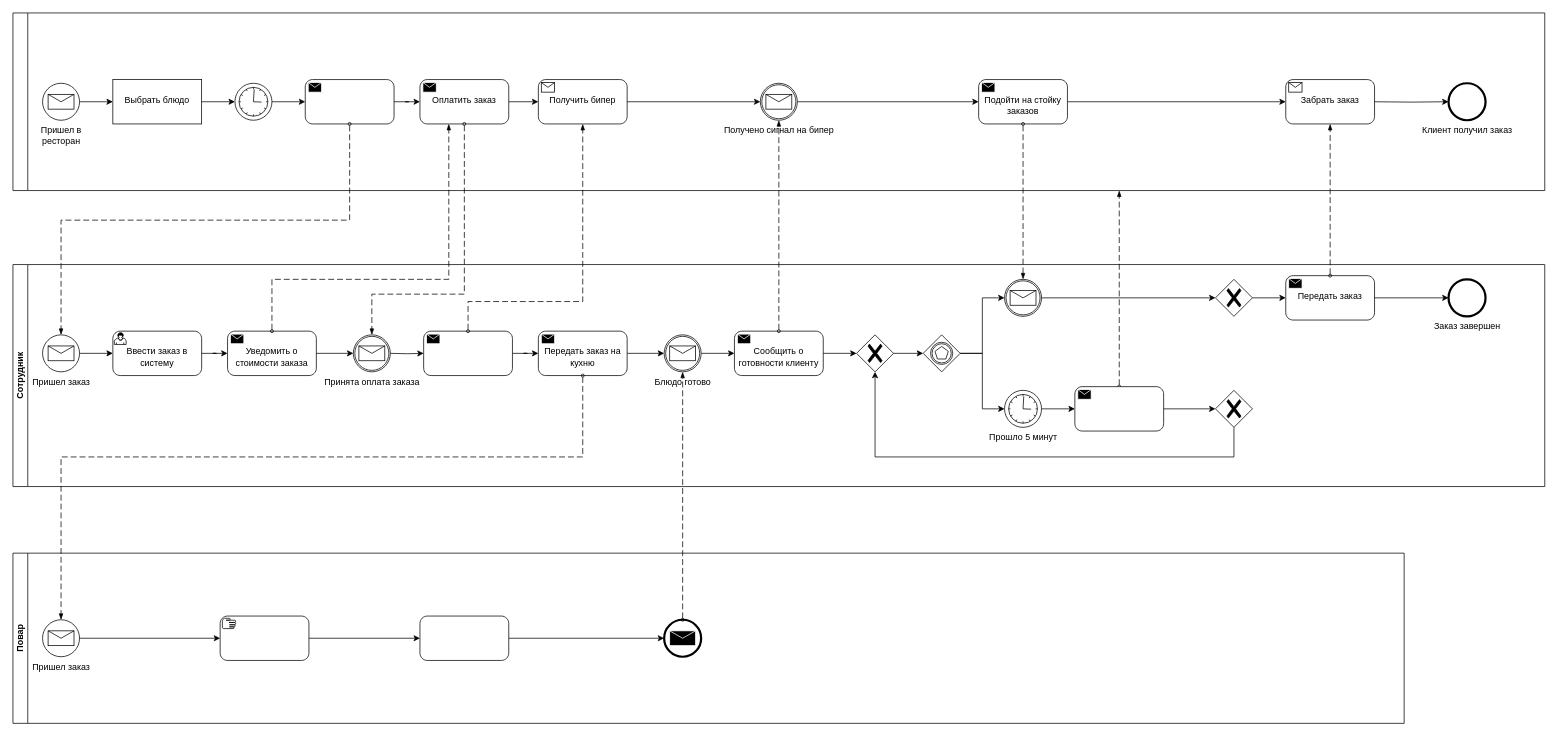
Image size: 1558x736. Some labels were removed from this diagram. Each missing label, with the box of its shape:
Вызвать гостя по системе оповещения: (1074, 386, 1164, 431)
Гость: (12, 12, 1545, 191)
Гость подошел?: (922, 334, 960, 372)
Настроить и передать бипер: (423, 330, 512, 376)
Ожидание очереди: (234, 83, 272, 120)
Подошел: (1004, 279, 1042, 316)
Поставить блюдо на сервировочную полку: (419, 615, 509, 660)
Приготовить блюдо: (219, 615, 309, 660)
Сделать заказ: (305, 79, 394, 124)
Сообщить о готовности заказа: (663, 619, 701, 657)
